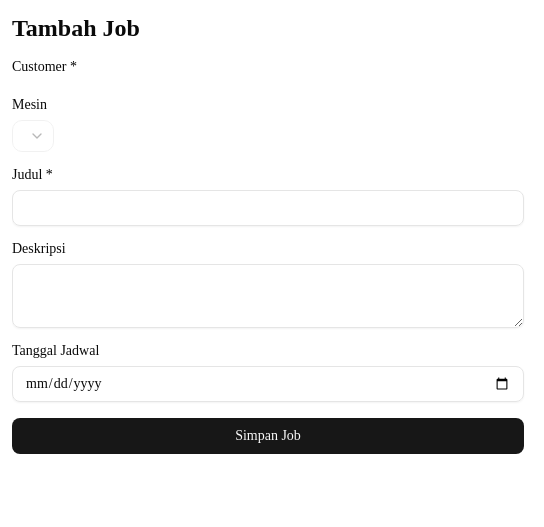
Test: CreateJobPage › shows a Zod validation error instead of submitting when title is empty
Step 1. Click the button "Simpan Job" → click(268, 436), box [12, 418, 524, 454]
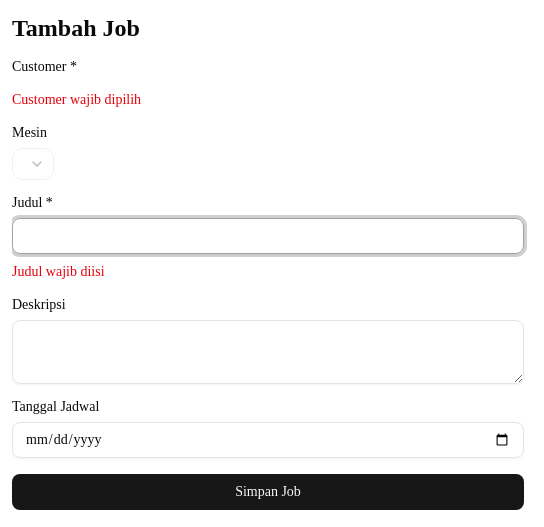
Expected: the text "Customer wajib dipilih" is shown, [12, 92, 141, 107]
Expected: the text "Judul wajib diisi" is shown, [12, 264, 105, 279]
